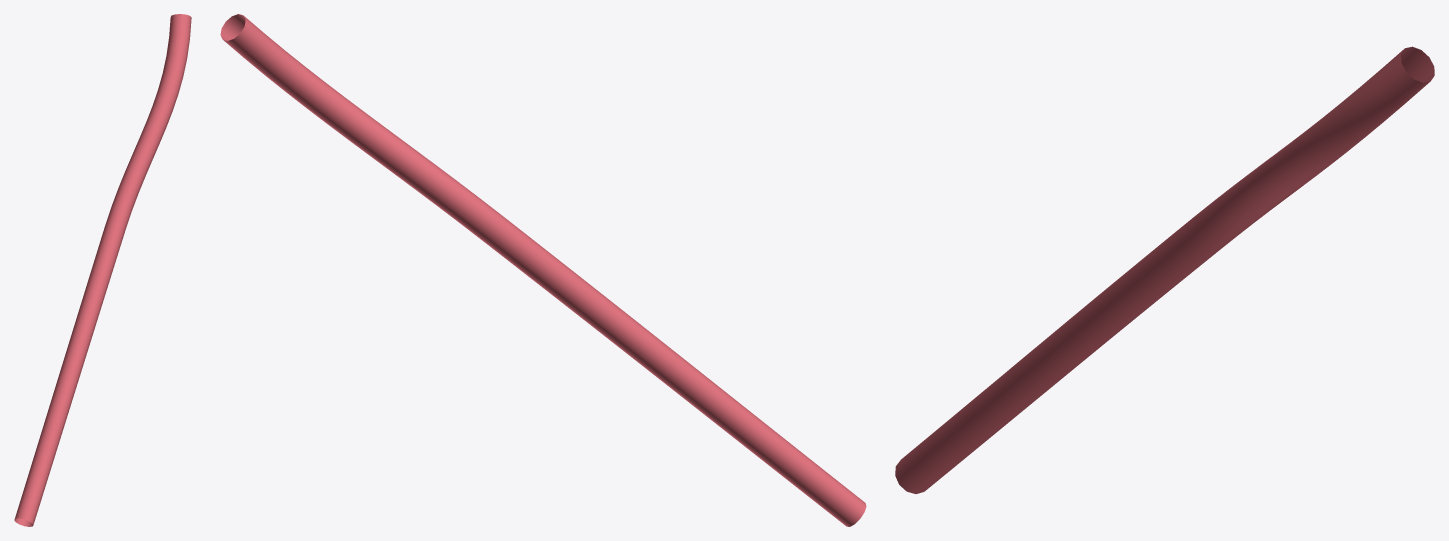
3 views of the same model, side by side, from view 1: azimuth 30°, elevation 25°; view 2: azimuth 150°, elevation 25°; view 3: azimuth 270°, elevation 25° (orthographic). The views are drawn at different scales.
Visible parts, largest first — view 1: ZA_5738ecc8de59560b; view 2: ZA_5738ecc8de59560b; view 3: ZA_5738ecc8de59560b.
Part boxes in pixels (box(x1,y1,x2,y2)): ZA_5738ecc8de59560b: box(14, 14, 191, 526); ZA_5738ecc8de59560b: box(220, 14, 866, 526); ZA_5738ecc8de59560b: box(895, 46, 1434, 493).
Size of the model in its own units: 0.0222 by 0.0253 by 0.0173.
